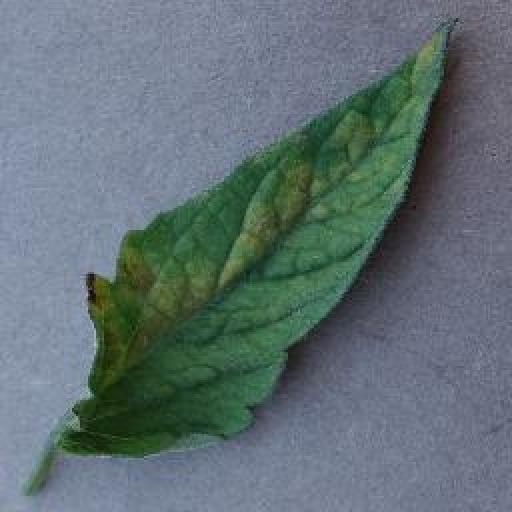Leaf Mold: (63, 15, 456, 460)
